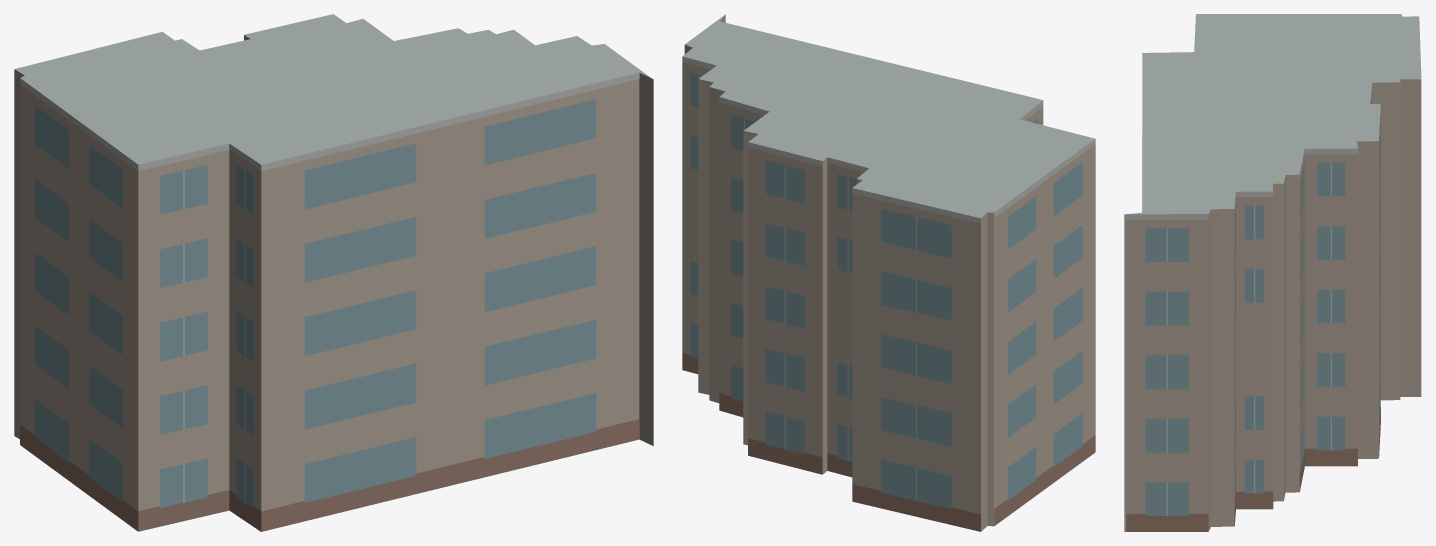
Rendered from survey-upis-32815137.glb.
3 views of the same model, side by side, from view 1: azimuth 30°, elevation 25°; view 2: azimuth 150°, elevation 25°; view 3: azimuth 270°, elevation 25° (orthographic). The views are drawn at different scales.
Visible parts, largest first — view 1: survey-upis-32815137.tmp; view 2: survey-upis-32815137.tmp; view 3: survey-upis-32815137.tmp.
Part boxes in pixels (bbox=[...]): survey-upis-32815137.tmp: bbox=[14, 14, 653, 531]; survey-upis-32815137.tmp: bbox=[682, 14, 1095, 531]; survey-upis-32815137.tmp: bbox=[1124, 14, 1421, 531].
Bounding box in the file's own units: 18.66 × 13.8 × 11.7.
